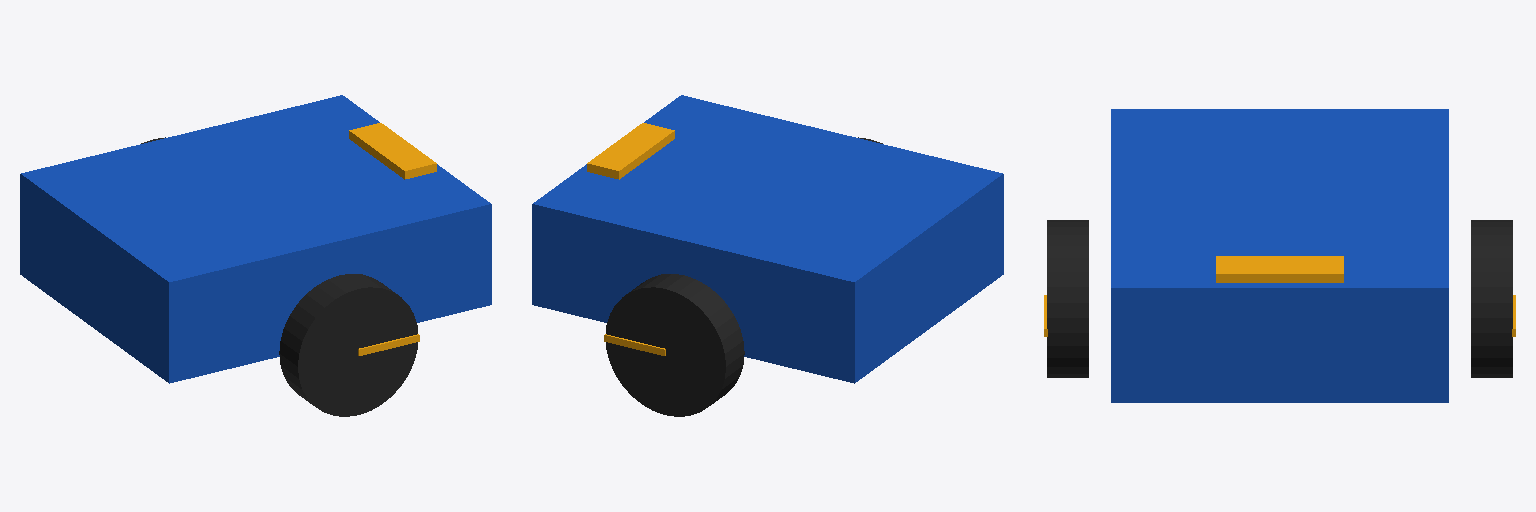
URDF robot description (ros_agv):
<?xml version="1.0"?>
<!-- Example geometry in meters; replace dimensions with actual measurements.
     Wheel separation matches WHEEL_SEPARATION=0.40 in ros_agv.py. -->
<robot name="ros_agv">
  <material name="body_blue"><color rgba="0.15 0.4 0.8 1"/></material>
  <material name="wheel_gray"><color rgba="0.2 0.2 0.2 1"/></material>
  <material name="marker"><color rgba="1 0.7 0.1 1"/></material>
  <link name="base_link">
    <visual>
      <origin xyz="0 0 0.12"/>
      <geometry><box size="0.40 0.32 0.12"/></geometry>
      <material name="body_blue"/>
    </visual>
    <!-- Front marker indicates +X. -->
    <visual>
      <origin xyz="0.17 0 0.185"/>
      <geometry><box size="0.04 0.12 0.01"/></geometry>
      <material name="marker"/>
    </visual>
  </link>
  <link name="left_wheel_link">
    <visual>
      <origin rpy="1.57079632679 0 0"/>
      <geometry><cylinder radius="0.075" length="0.04"/></geometry>
      <material name="wheel_gray"/>
    </visual>
    <visual>
      <origin xyz="0.0375 0.021 0"/>
      <geometry><box size="0.075 0.003 0.008"/></geometry>
      <material name="marker"/>
    </visual>
  </link>
  <joint name="left_wheel_joint" type="continuous">
    <parent link="base_link"/><child link="left_wheel_link"/>
    <origin xyz="0 0.20 0.075"/><axis xyz="0 1 0"/>
  </joint>
  <link name="right_wheel_link">
    <visual>
      <origin rpy="1.57079632679 0 0"/>
      <geometry><cylinder radius="0.075" length="0.04"/></geometry>
      <material name="wheel_gray"/>
    </visual>
    <visual>
      <origin xyz="0.0375 -0.021 0"/>
      <geometry><box size="0.075 0.003 0.008"/></geometry>
      <material name="marker"/>
    </visual>
  </link>
  <joint name="right_wheel_joint" type="continuous">
    <parent link="base_link"/><child link="right_wheel_link"/>
    <origin xyz="0 -0.20 0.075"/><axis xyz="0 1 0"/>
  </joint>
</robot>

--- Render facts (derived) ---
Views: 3 orthographic renders of the robot side by side, from view 1: azimuth 30°, elevation 25°; view 2: azimuth 150°, elevation 25°; view 3: azimuth 270°, elevation 25°.
Robot: ros_agv — 3 links, 2 joints (2 continuous); root link base_link; default pose: all joints at 0.
Links seen in each view (by area): view 1: base_link, right_wheel_link; view 2: base_link, left_wheel_link; view 3: base_link, left_wheel_link, right_wheel_link.
Link boxes in pixels (x1,y1,x2,y2): base_link: [20, 95, 491, 383]; right_wheel_link: [279, 274, 419, 416]; base_link: [532, 95, 1003, 383]; left_wheel_link: [604, 274, 744, 416]; base_link: [1111, 109, 1448, 402]; left_wheel_link: [1471, 220, 1515, 377]; right_wheel_link: [1044, 220, 1088, 377].
Size in the robot's own frame: 0.4 by 0.445 by 0.19 metres.
Geometry: primitives only (box / cylinder / sphere), no mesh files.
